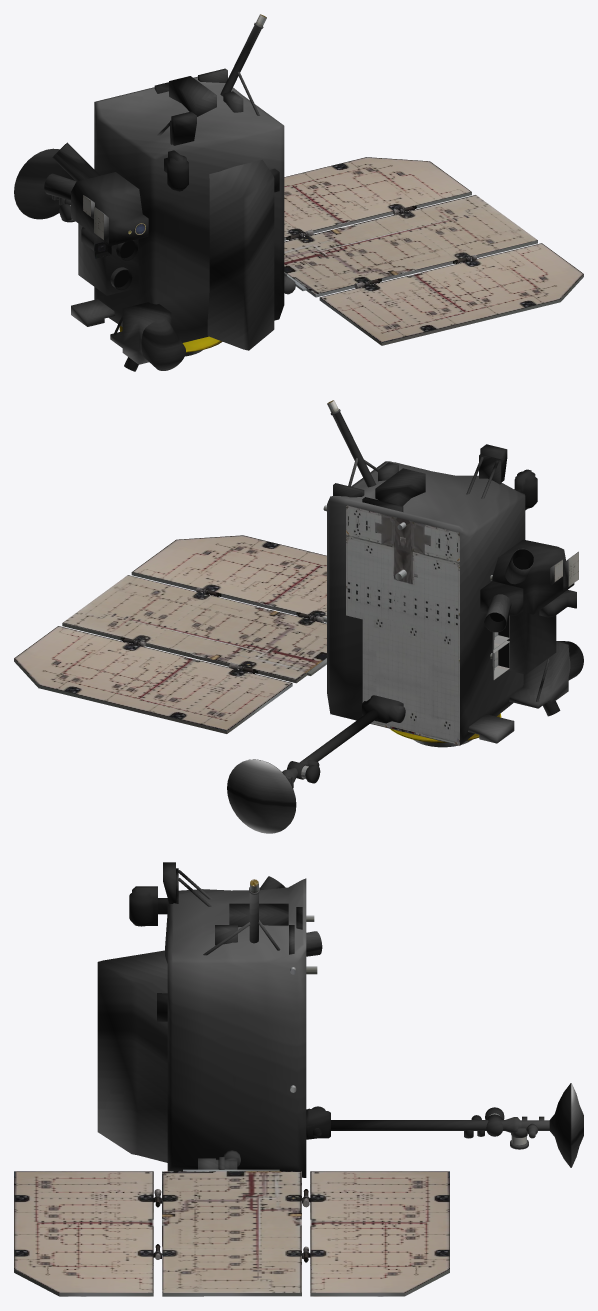
File: lro.glb
The picture shows the model from 3 angles, top to bottom: view 1: azimuth 30°, elevation 25°; view 2: azimuth 150°, elevation 25°; view 3: azimuth 270°, elevation 25°; orthographic projection. The views are drawn at different scales.
Parts seen in each view (by area): view 1: foil_silver_dish, tex, dark_black; view 2: foil_silver_dish, tex, panel, dark_black; view 3: foil_silver_dish, tex, dark_black.
Boxes of the visible parts, x1,y1,x2,y2 form: foil_silver_dish: (14,22,295,371); tex: (284,157,583,342); dark_black: (53,14,583,356); foil_silver_dish: (227,409,583,833); tex: (14,535,326,730); panel: (346,505,459,745); dark_black: (14,400,578,778); foil_silver_dish: (97,862,583,1177); tex: (14,1171,449,1292); dark_black: (14,879,526,1296).
Size of the model in its own units: 5.45 by 3.66 by 5.51.
Materials: 5 (5 with a texture image).
